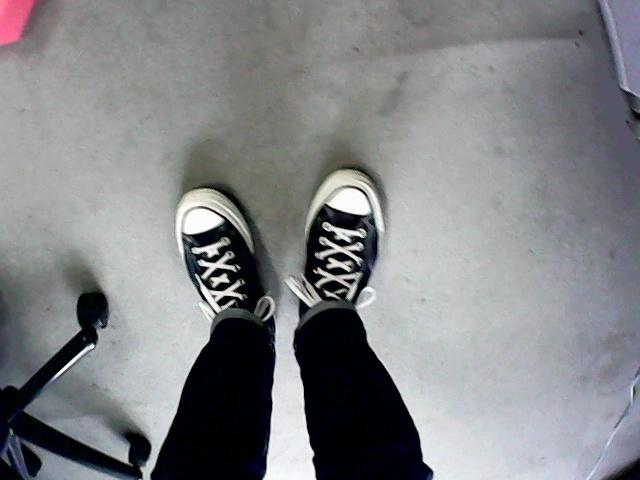red_block: (0, 0, 36, 44)
